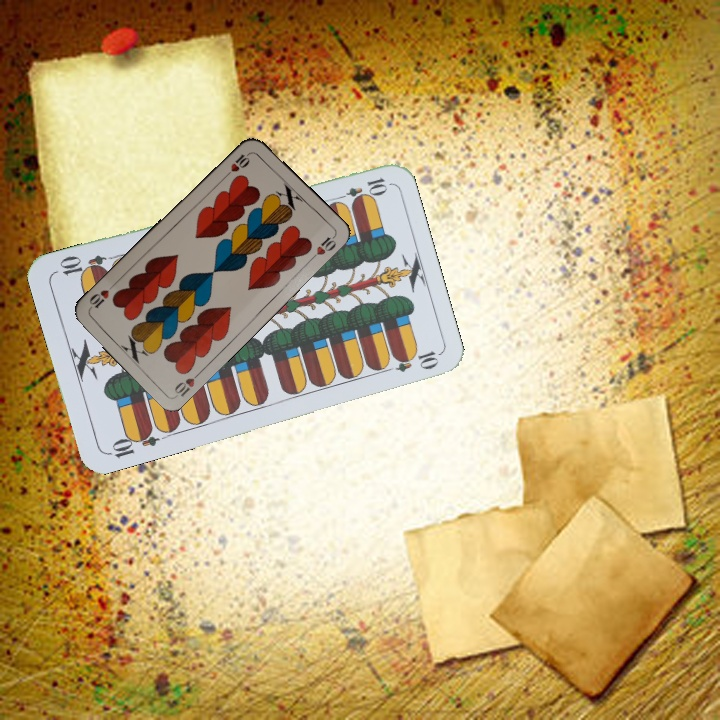E10: (103, 424, 161, 461), (331, 173, 390, 205)
H10: (170, 367, 204, 399), (220, 148, 253, 180)
